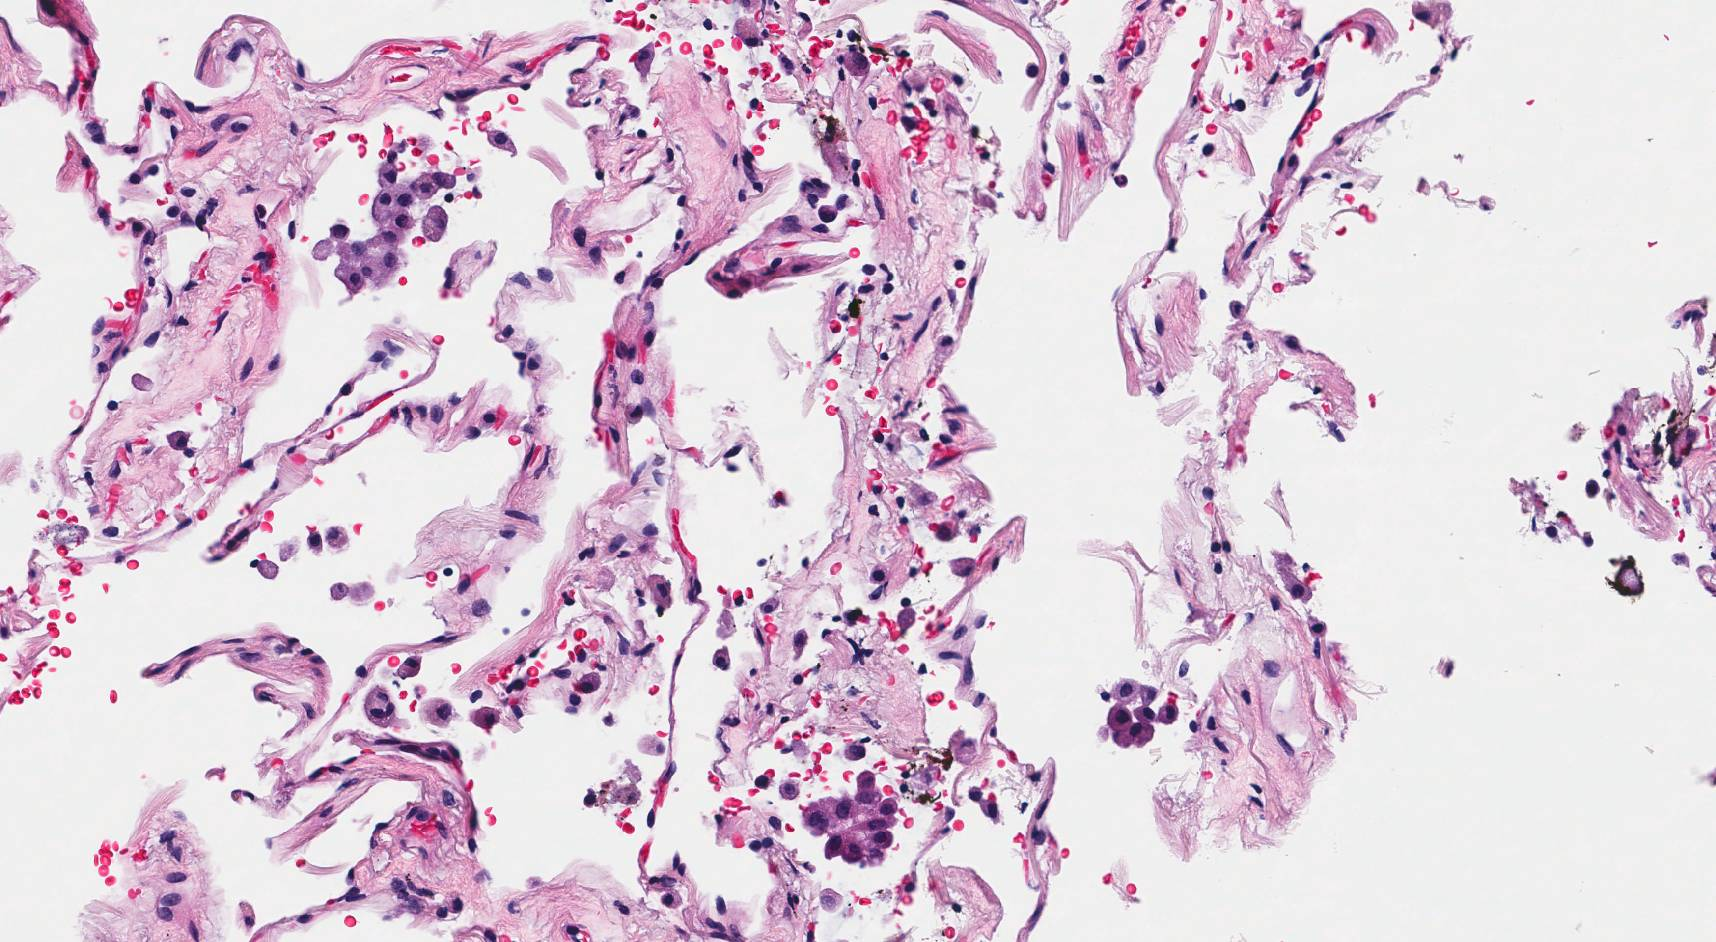stas: (799, 771, 902, 866)
